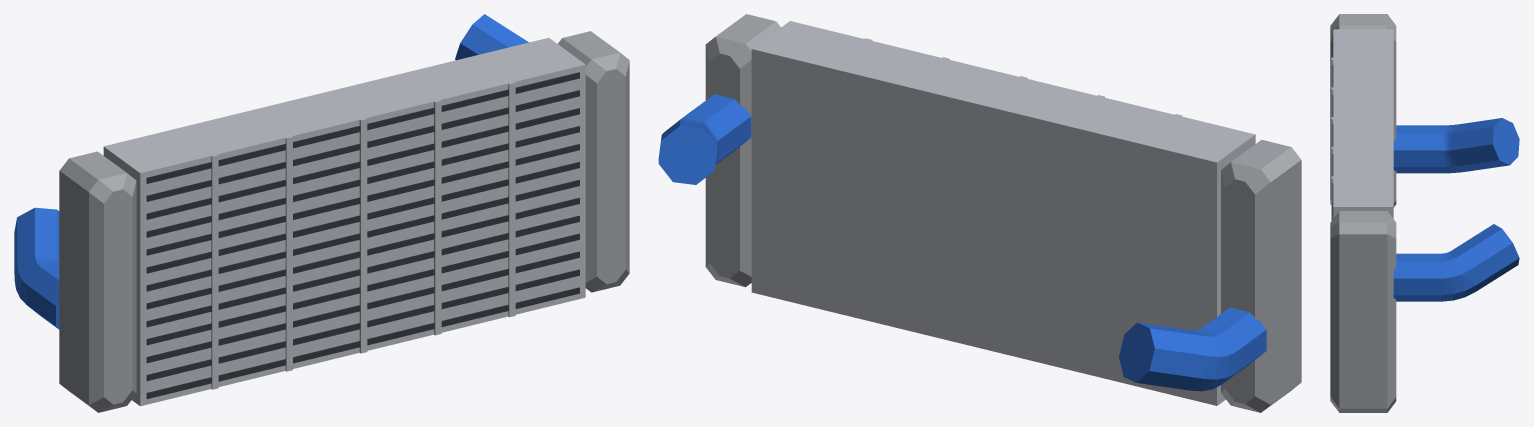
File: apex_v8.glb
3 renders of one model, left to right at view 1: azimuth 30°, elevation 25°; view 2: azimuth 150°, elevation 25°; view 3: azimuth 270°, elevation 25°, orthographic. The views are drawn at different scales.
Visible parts, largest first — view 1: model; view 2: model; view 3: model.
Part boxes in pixels (x1,y1,x2,y2): model: [14, 14, 629, 412]; model: [658, 14, 1301, 412]; model: [1330, 14, 1519, 412].
Bounding box in the file's own units: 0.68 × 0.28 × 0.2519.
Materials: 2 (1 with a texture image).
